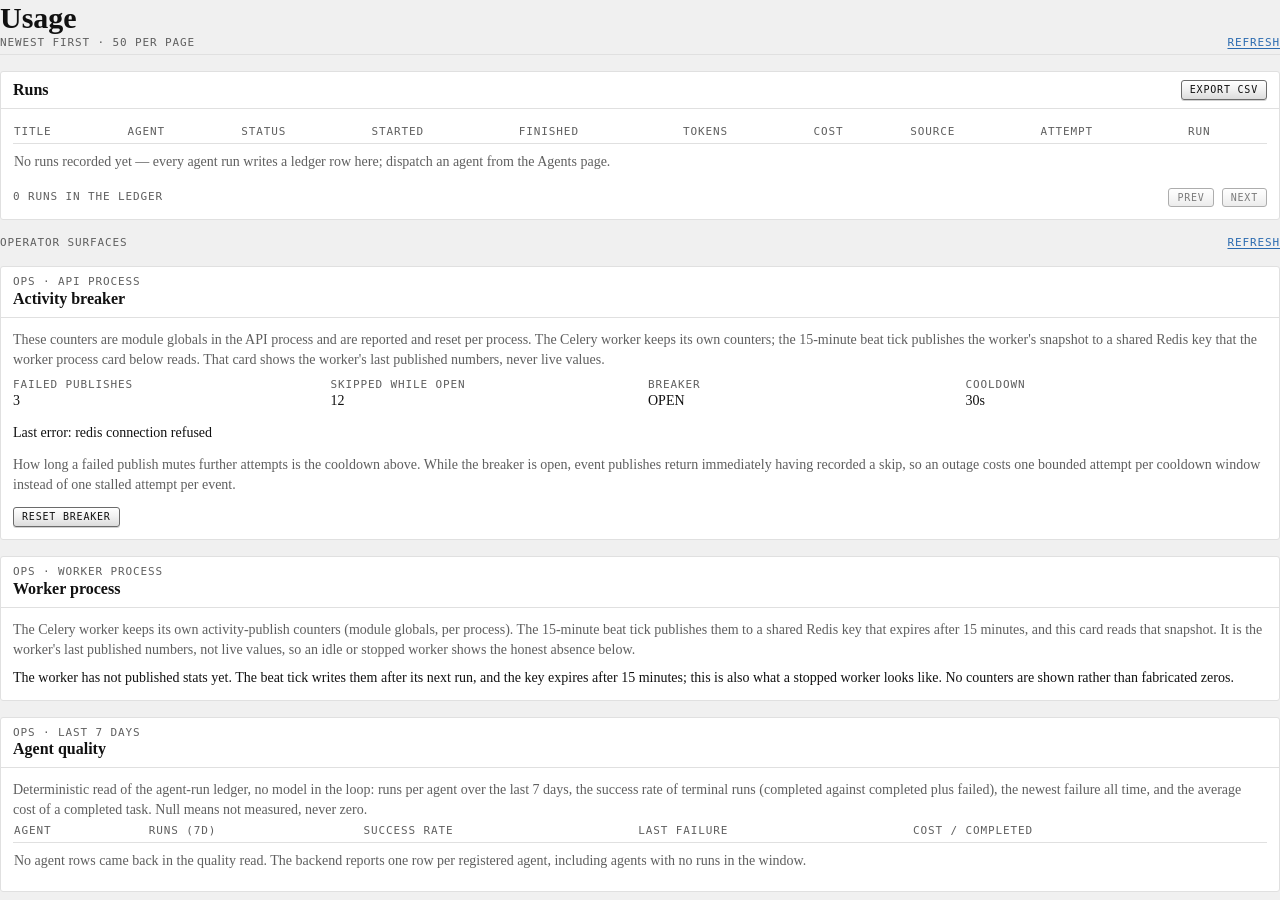
Test case: Ops panel — the reset is guarded and calls the REAL verb › confirm posts /ops/events/reset and adopts the fresh stats it returns
The image size is (1280, 900).
Check: the text with test id "ops-breaker-state" reads "OPEN", box [648,393,685,408]
Step 1. Click the button with test id "ops-reset" → (66, 517), box [13,507,120,527]
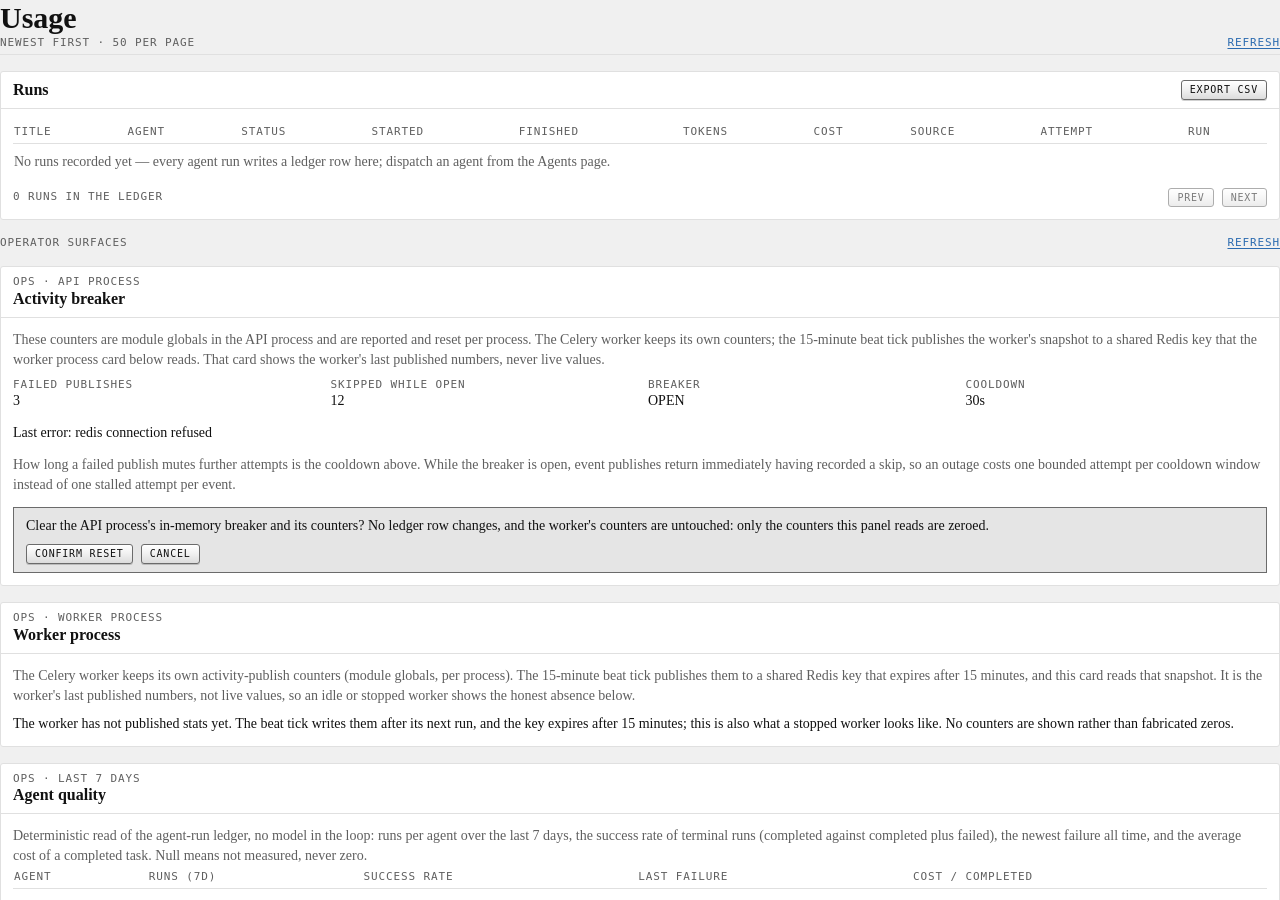
Step 2. Click the button with test id "ops-reset-confirm" → (79, 554), box [26,544,133,564]
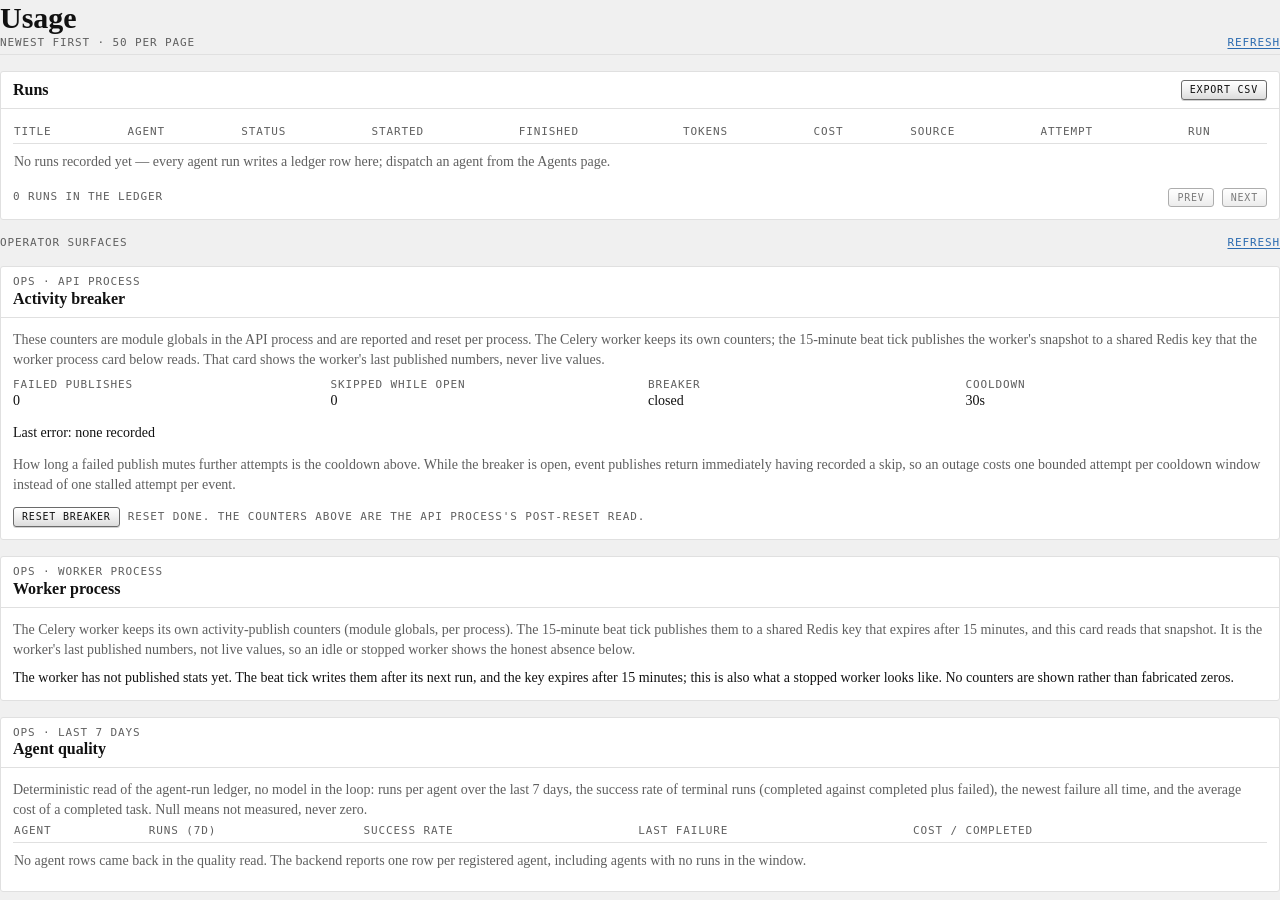
Check: the text with test id "ops-breaker-state" reads "closed", box [648,393,684,408]
Check: the text with test id "ops-breaker-last-error" shows "none recorded", box [75,425,155,440]
Check: the text with test id "ops-reset-done" is shown, box [128,510,645,524]
